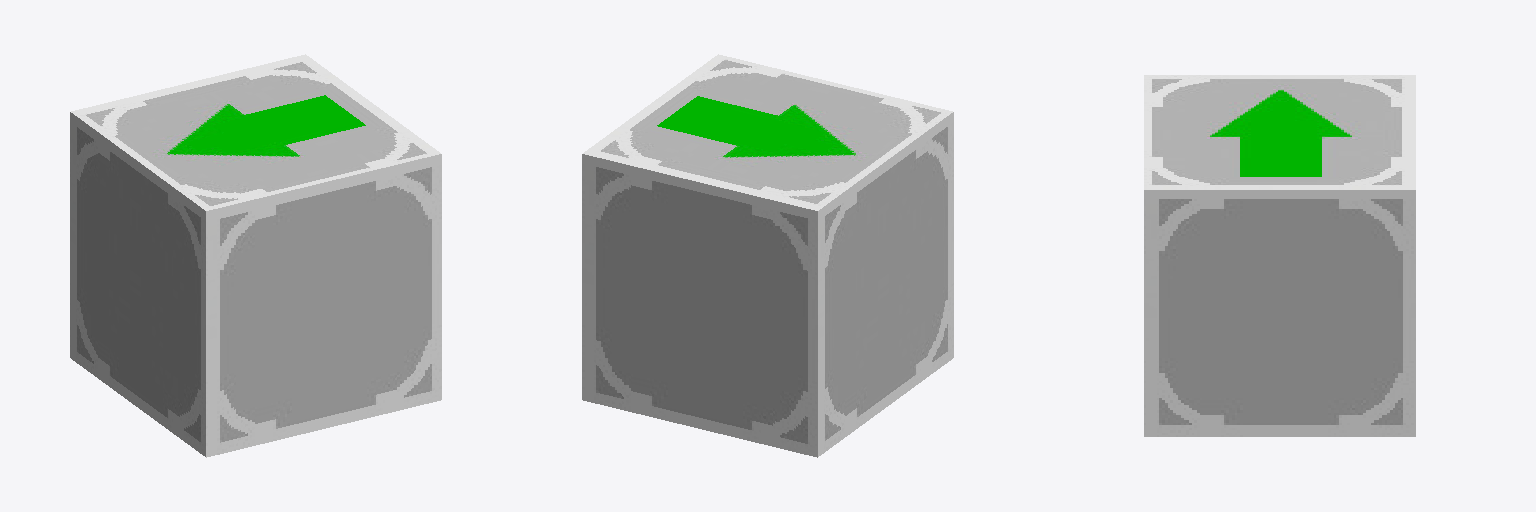
3 renders of one model, left to right at view 1: azimuth 30°, elevation 25°; view 2: azimuth 150°, elevation 25°; view 3: azimuth 270°, elevation 25°, orthographic.
Visible parts, largest first — view 1: Cube; view 2: Cube; view 3: Cube.
Boxes of the visible parts, <box> form: Cube: <box>70,54,441,457</box>; Cube: <box>582,54,953,457</box>; Cube: <box>1144,75,1415,436</box>.
Bounding box in the file's own units: 2 × 2 × 2.
Materials: 1 (1 with a texture image).